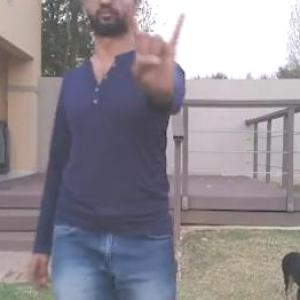takeoff-hand: (121, 0, 194, 98)
